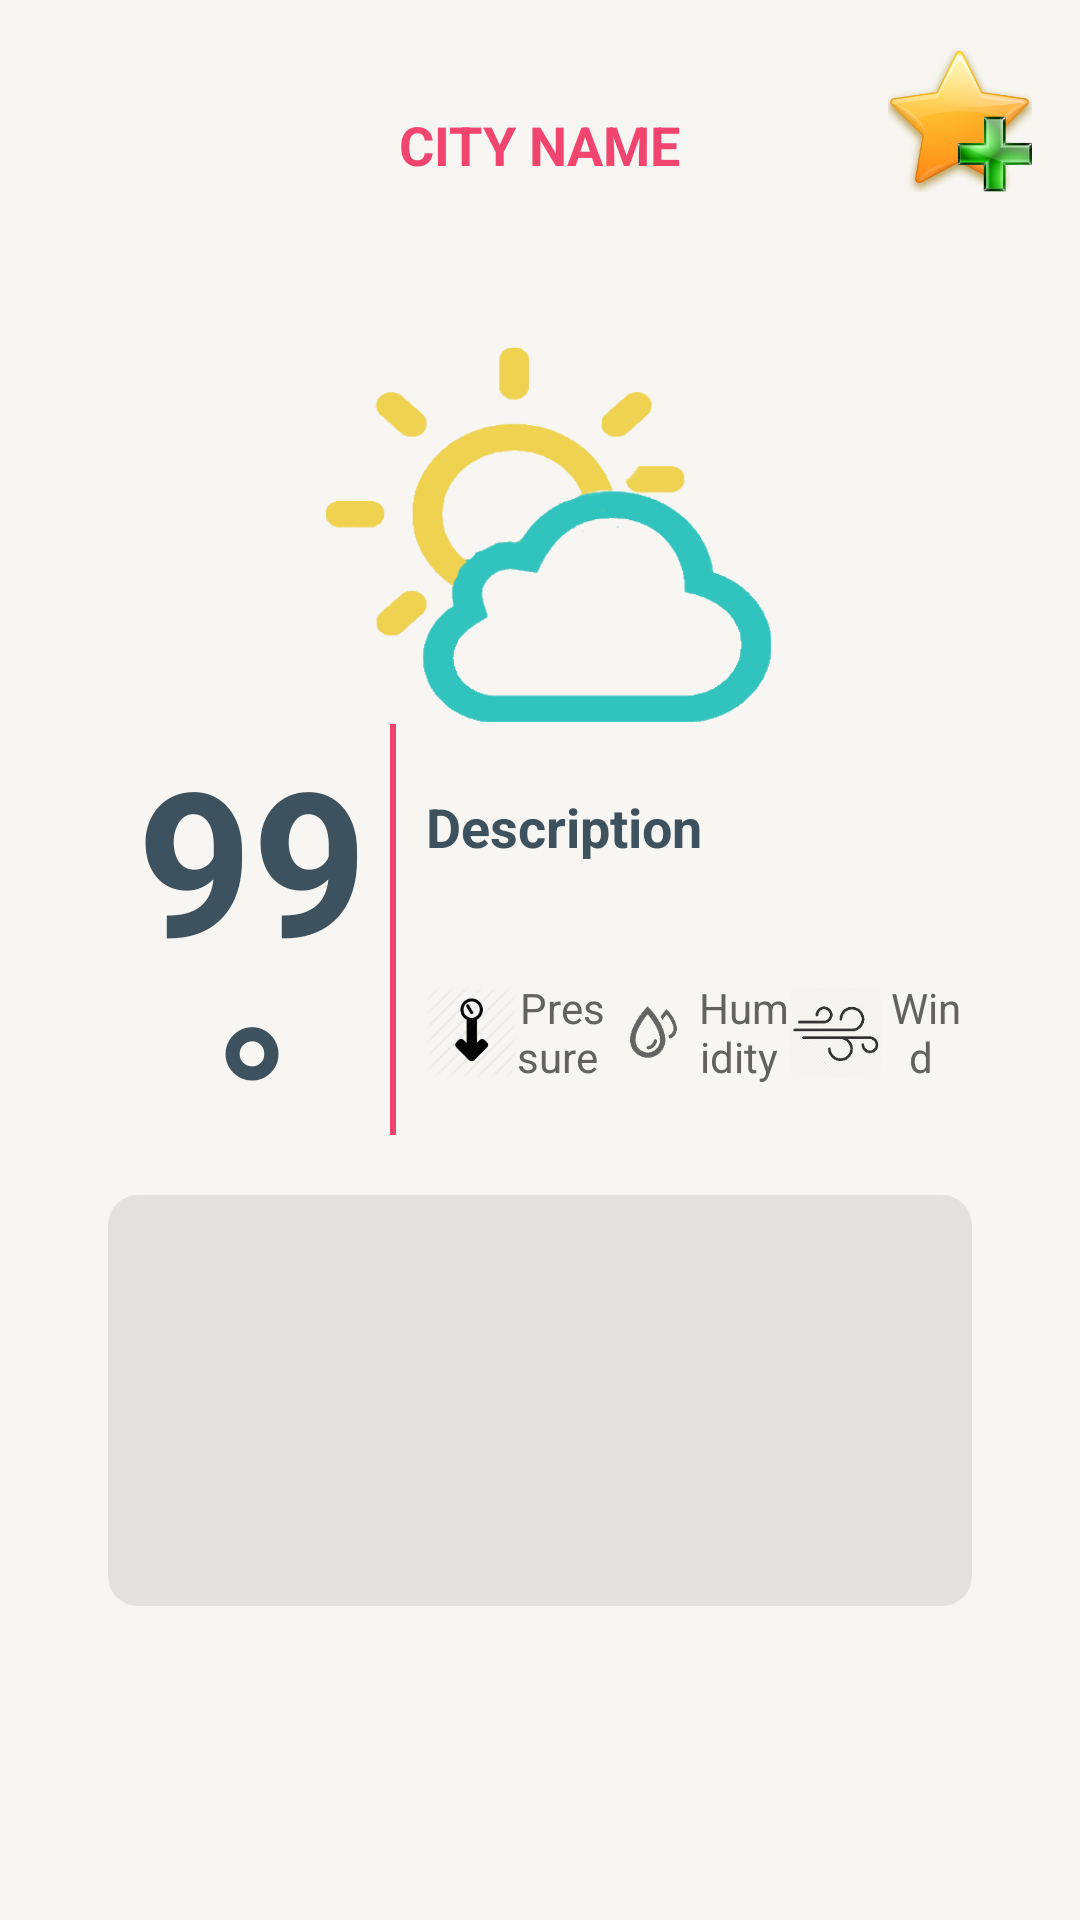

Icon bounding boxes for this 1080 x 1920 phone screenshot, format region(x1, y1, x2, y2):
add favorite: region(888, 51, 1032, 192)
